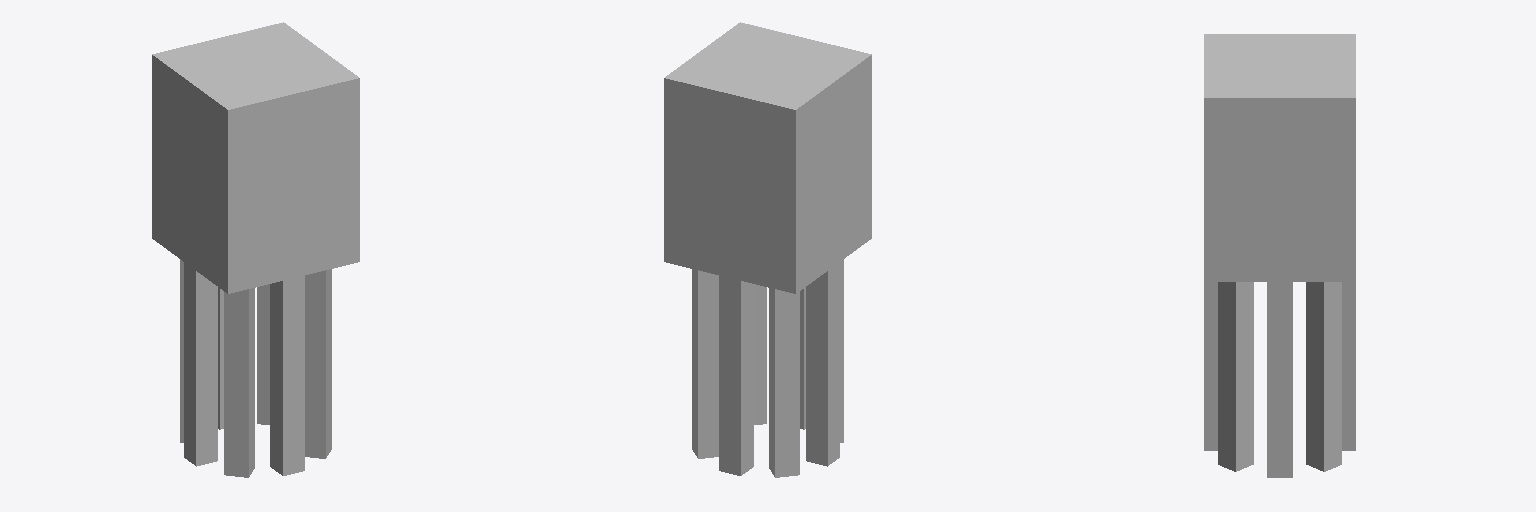
3 renders of one model, left to right at view 1: azimuth 30°, elevation 25°; view 2: azimuth 150°, elevation 25°; view 3: azimuth 270°, elevation 25°, orthographic.
Parts seen in each view (by area): view 1: body, tentacle3, tentacle1, tentacle2, tentacle4, tentacle6, tentacle7, tentacle8; view 2: body, tentacle7, tentacle1, tentacle8, tentacle6, tentacle4, tentacle3, tentacle2; view 3: body, tentacle4, tentacle6, tentacle5, tentacle3, tentacle7.
Part boxes in pixels (x1,y1,x2,y2): body: (152,22,359,293); tentacle3: (270,264,304,475); tentacle1: (184,251,217,466); tentacle2: (224,288,254,477); tentacle4: (305,269,331,458); tentacle6: (257,284,269,424); tentacle7: (218,287,223,429); tentacle8: (180,259,183,442); body: (664,22,871,293); tentacle7: (719,264,753,475); tentacle1: (806,256,839,466); tentacle8: (769,288,799,477); tentacle6: (692,269,718,458); tentacle4: (754,284,766,424); tentacle3: (800,287,805,429); tentacle2: (840,259,843,442); body: (1204,34,1355,281); tentacle4: (1218,282,1253,471); tentacle6: (1306,282,1341,471); tentacle5: (1267,271,1292,477); tentacle3: (1204,282,1217,450); tentacle7: (1342,282,1355,450).
Bounding box in the file's own units: 0.75 × 2.06 × 0.75.